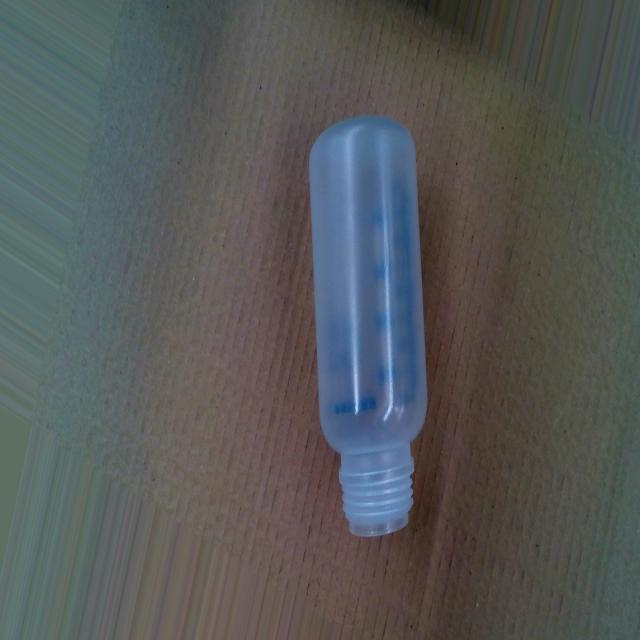bottle: (305, 105, 433, 549)
